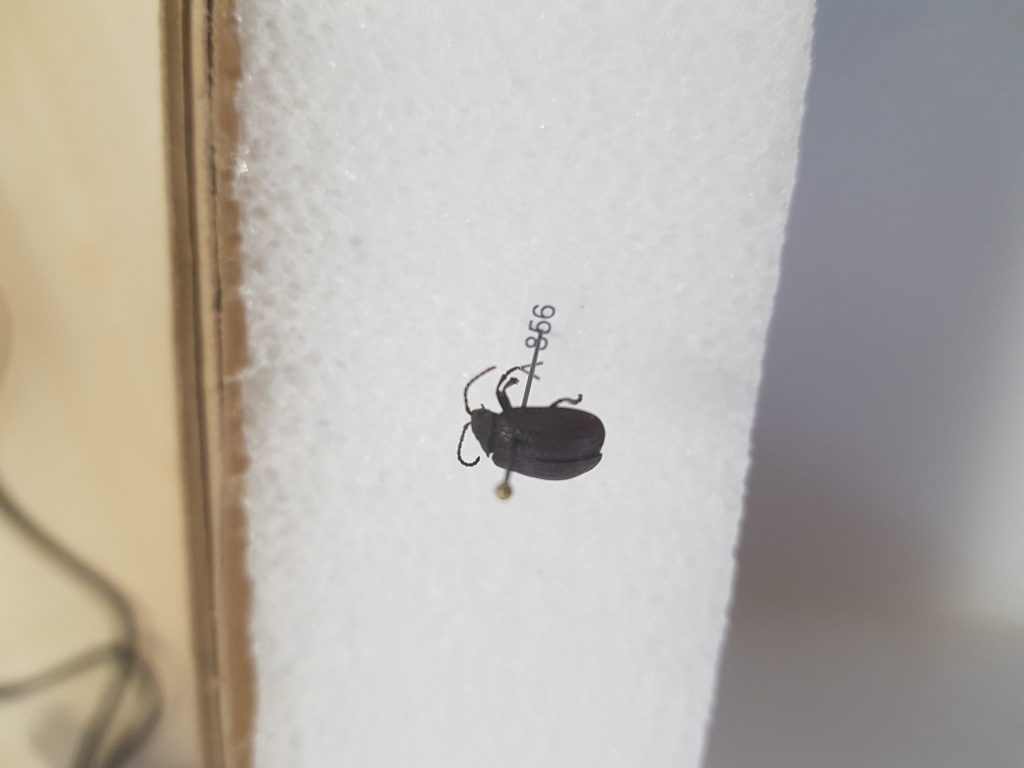Galeruca_tanaceti: (456, 352, 612, 487)
